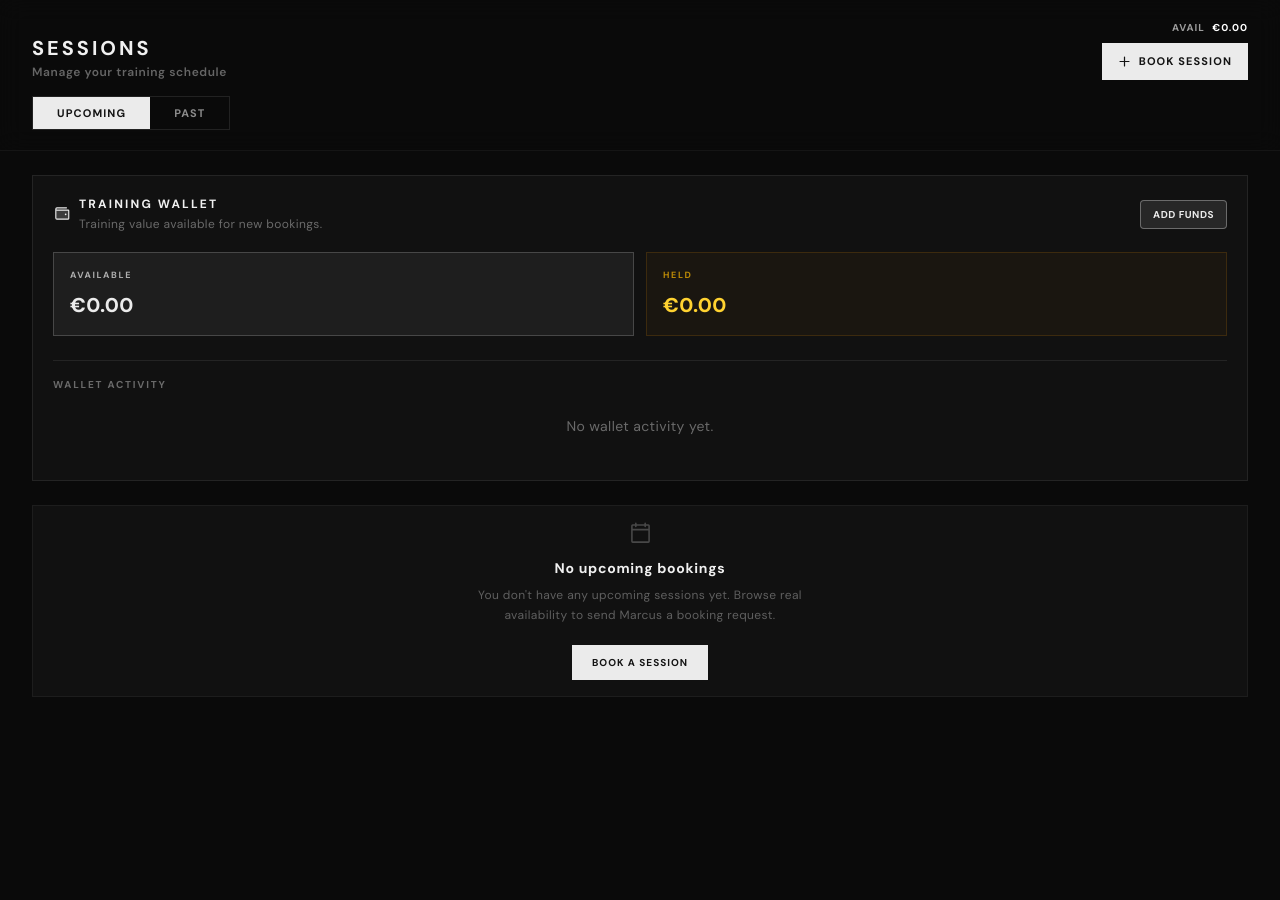
Scenario: Sessions booking integration › shows an empty availability state instead of static fallback slots
Click the button with test id "book-session-button" at point(1175, 61), box [1102, 43, 1248, 80]
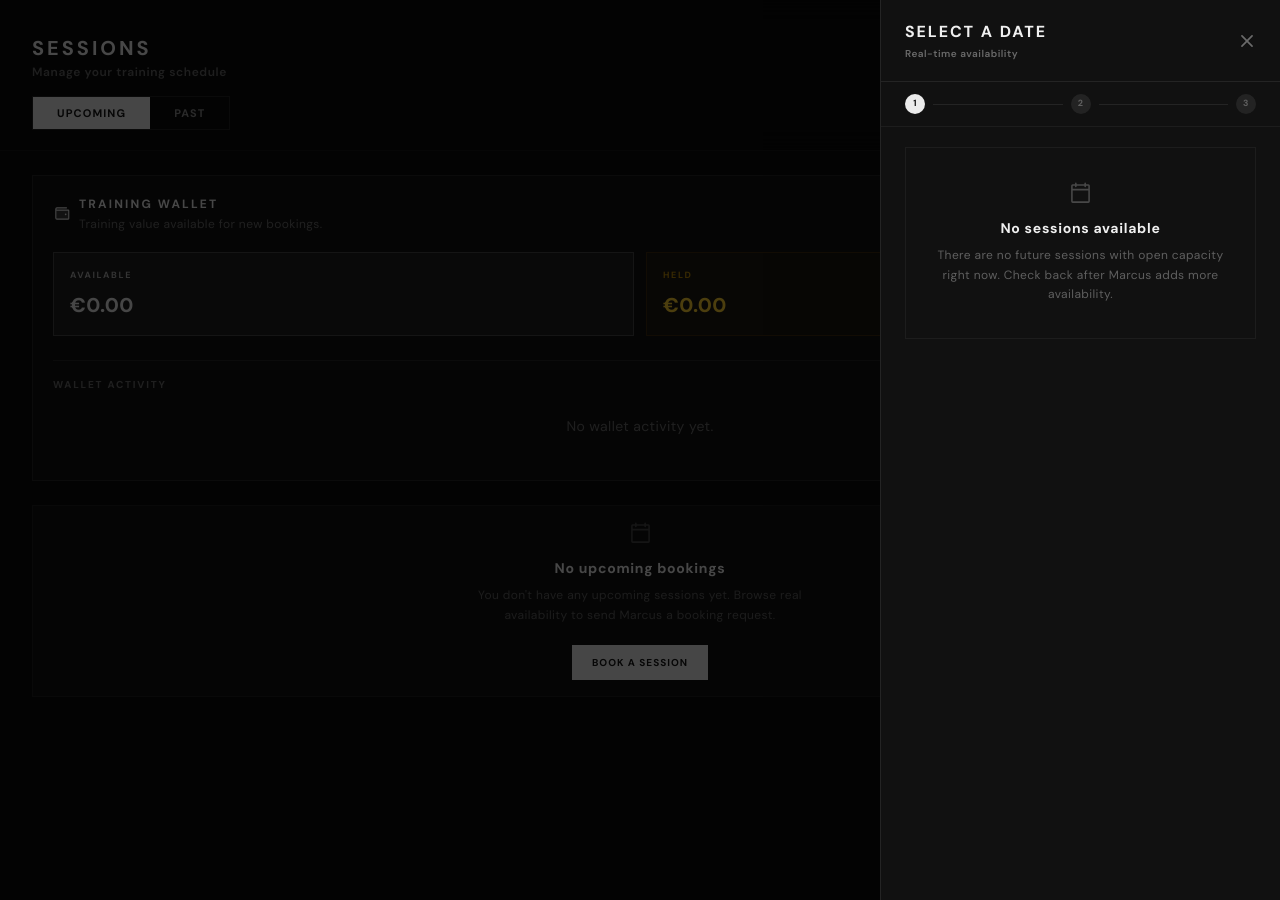
Expected: the heading "No sessions available" is shown, [1000, 218, 1161, 238]
